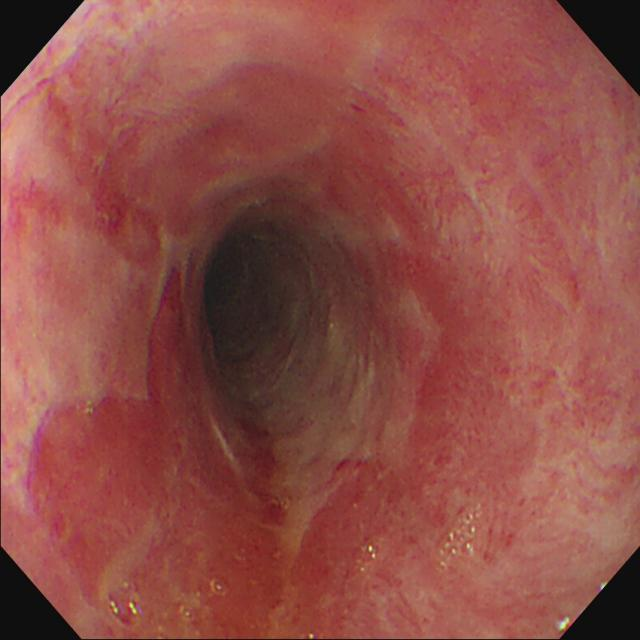A: (2, 378, 285, 638), (292, 406, 562, 640), (358, 162, 486, 405), (48, 84, 170, 276)
E: (207, 236, 285, 360)
